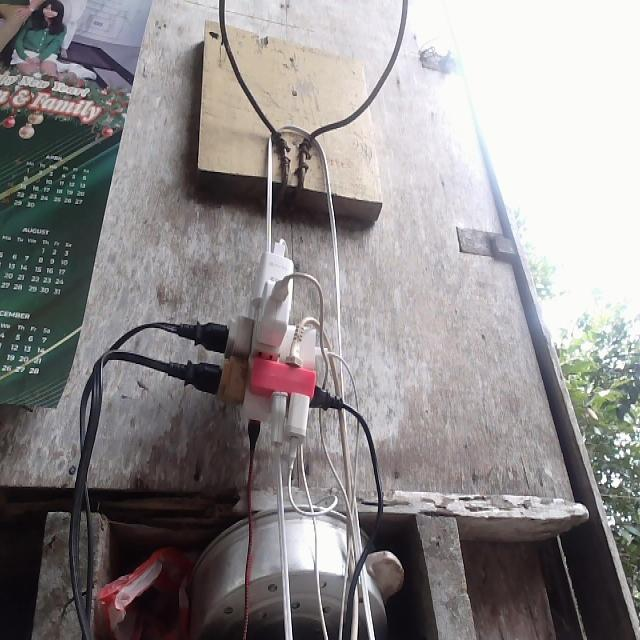-: (137, 201, 390, 496)
